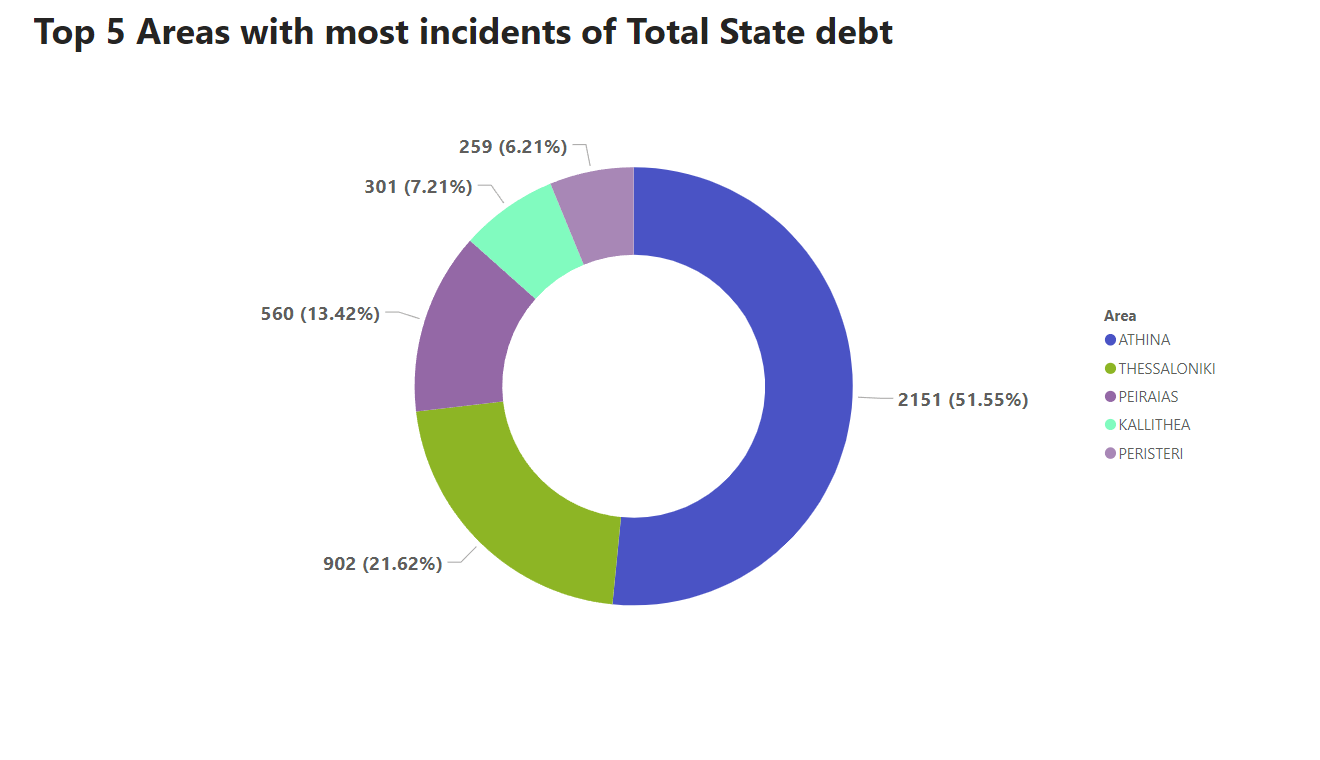

This screenshot's page, from the dashboard's own definition file:
{"tool":"powerbi","page":{"name":"Top 5 Areas with most incidents of Total State debt","canvas":[1280,720],"ordinal":8},"visuals":[{"type":"donutChart","fields":{"Category":["gr-public-debt.Area"],"Y":["Count(gr-public-debt.Total State.1)"]},"box":[149,80,957,530],"z":0},{"type":"textbox","box":[33,0,864,61],"z":1}]}

Visuals, with their boxes in screenshot pixels (x1, y1, x2, y2), scaled from the page's 1280x720 canvas onto the 1320x760 screenshot:
donutChart - gr-public-debt.Area x Count(gr-public-debt.Total State.1): bbox=(154, 84, 1141, 644)
textbox: bbox=(34, 0, 925, 64)
